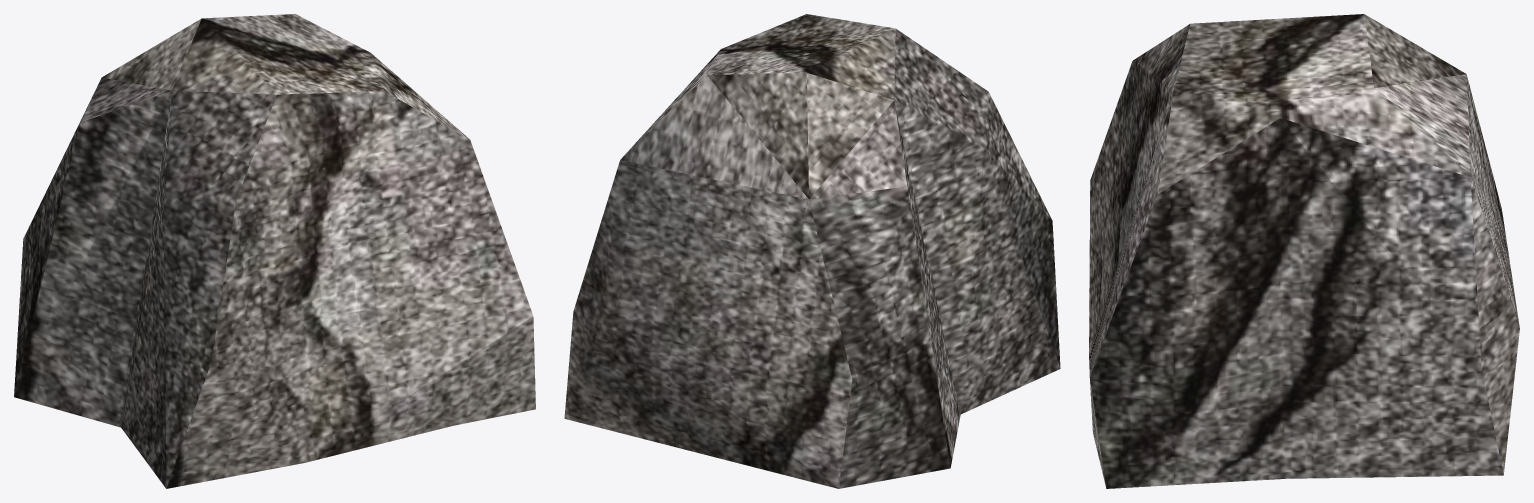
The model's file is RockLowPoly.fbx.
The picture shows the model from 3 angles, left to right: view 1: azimuth 30°, elevation 25°; view 2: azimuth 150°, elevation 25°; view 3: azimuth 270°, elevation 25°; orthographic projection. The views are drawn at different scales.
Visible parts, largest first — view 1: RockLowPoly; view 2: RockLowPoly; view 3: RockLowPoly.
Part boxes in pixels (x1=…): RockLowPoly: x1=14, y1=14, x2=535, y2=488; RockLowPoly: x1=564, y1=14, x2=1060, y2=488; RockLowPoly: x1=1089, y1=14, x2=1519, y2=488.
Size of the model in its own units: 92.45 by 81.72 by 86.69.
